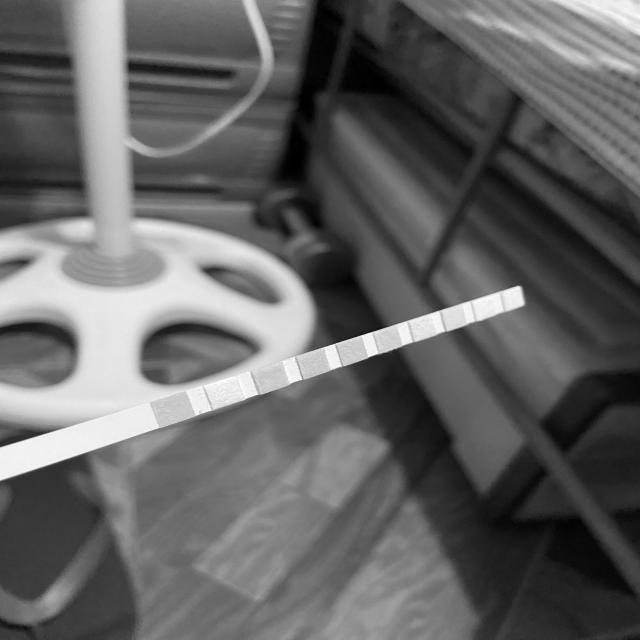Bilirubin: (211, 382, 238, 402)
Blood: (342, 342, 363, 360)
Glucose: (158, 399, 189, 418)
Ketone: (260, 369, 284, 387)
Leukocytes: (506, 291, 522, 307)
Nitrite: (476, 300, 493, 316)
Protein: (414, 319, 432, 337)
SpGravity: (304, 354, 326, 373)
Urobilinogen: (447, 309, 462, 327)
background: (0, 0, 640, 640)
pH: (378, 330, 397, 349)
strip: (0, 285, 524, 482)
